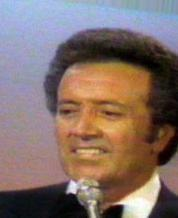face: (57, 98, 120, 160)
